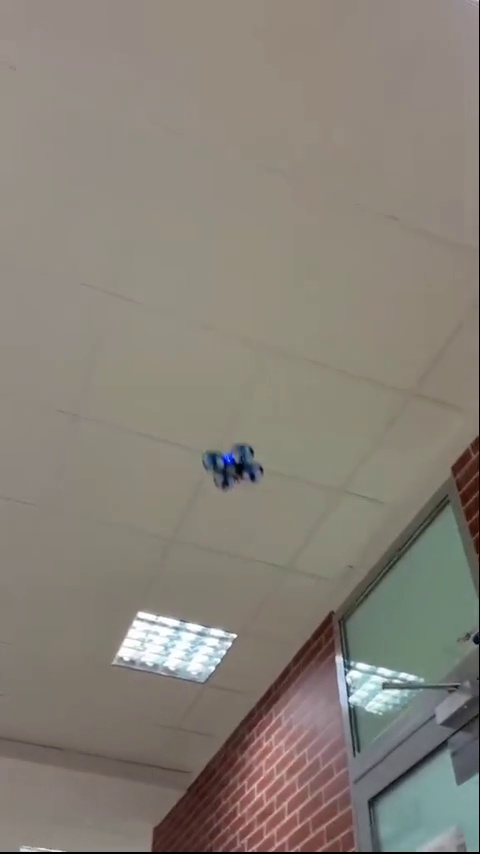drone: (204, 442, 264, 491)
